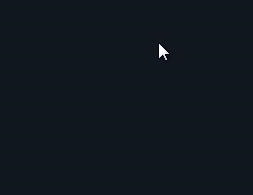cursor: (158, 43, 169, 62)
